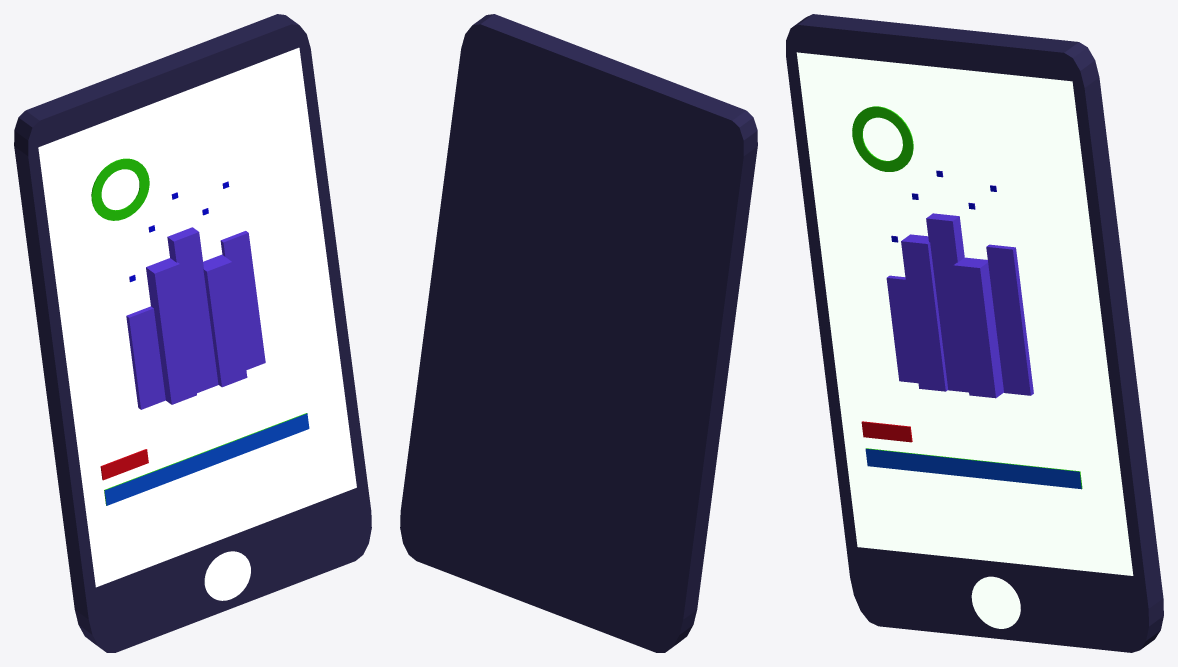
File: phone1.glb
3 renders of one model, left to right at view 1: azimuth 30°, elevation 25°; view 2: azimuth 150°, elevation 25°; view 3: azimuth 330°, elevation 25°, orthographic. The views are drawn at different scales.
Visible parts, largest first — view 1: Cube.002; view 2: Cube.002; view 3: Cube.002.
Boxes of the visible parts, left/top/right/bottom form: Cube.002: left=14, top=14, right=371, bottom=652; Cube.002: left=400, top=14, right=757, bottom=652; Cube.002: left=786, top=14, right=1163, bottom=652.
Size of the model in its own units: 2.41 by 3.93 by 0.2944.
